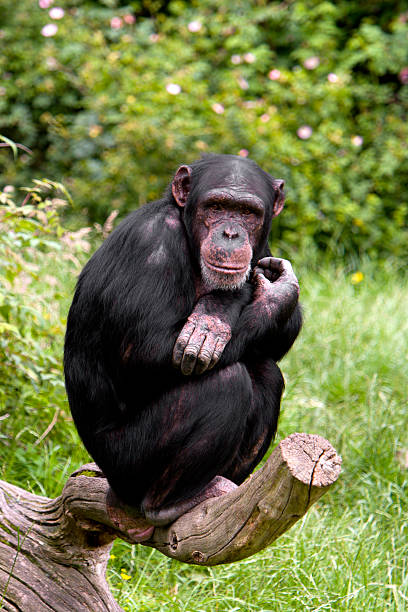chimpanzee: (162, 138, 290, 306)
